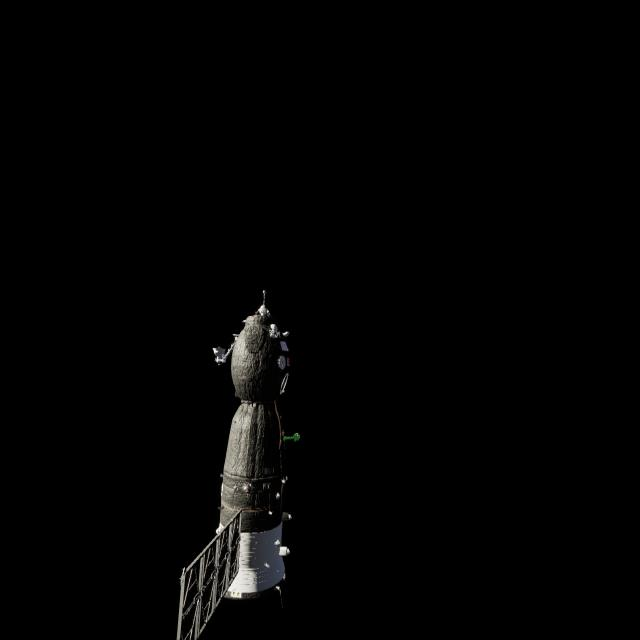Satellites revolving around earth: (175, 288, 302, 638)
